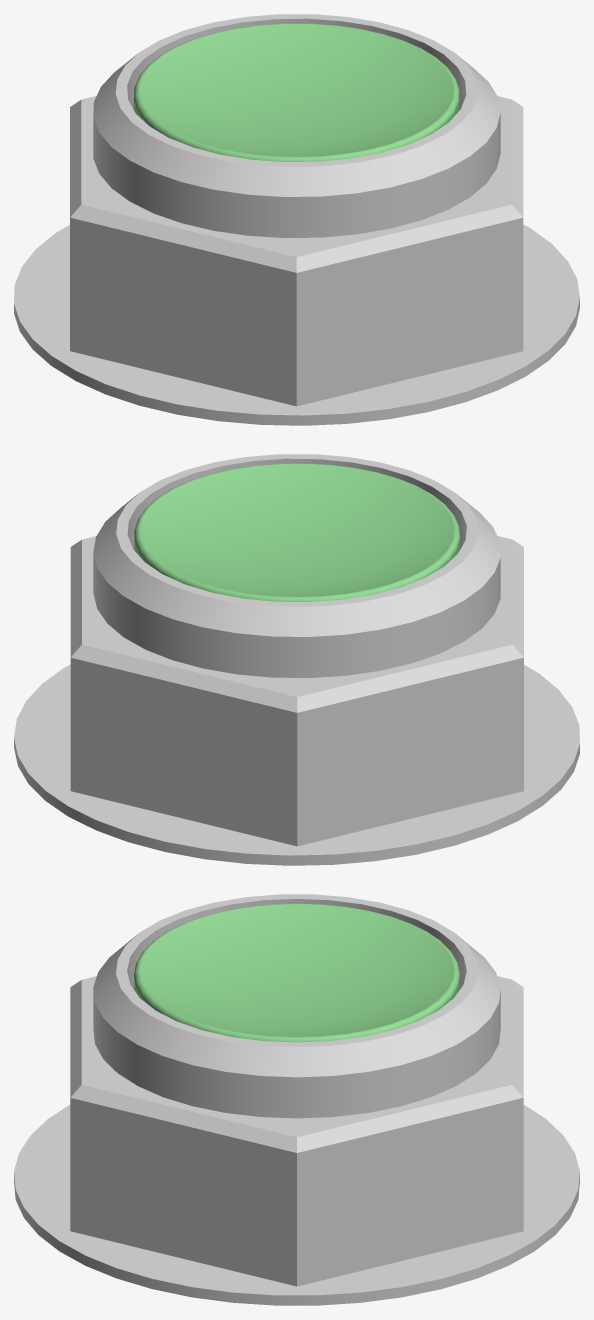
File: button-1.obj
The picture shows the model from 3 angles, top to bottom: view 1: azimuth 30°, elevation 25°; view 2: azimuth 150°, elevation 25°; view 3: azimuth 270°, elevation 25°; orthographic projection.
Parts seen in each view (by area): view 1: Body, Movable; view 2: Body, Movable; view 3: Body, Movable.
Part boxes in pixels (x1=…): Body: x1=14, y1=14, x2=579, y2=425; Movable: x1=133, y1=23, x2=459, y2=161; Body: x1=14, y1=454, x2=579, y2=865; Movable: x1=134, y1=463, x2=460, y2=601; Body: x1=14, y1=894, x2=579, y2=1305; Movable: x1=134, y1=903, x2=459, y2=1042.
Bounding box in the file's own units: 4.99 × 2.1 × 5.
